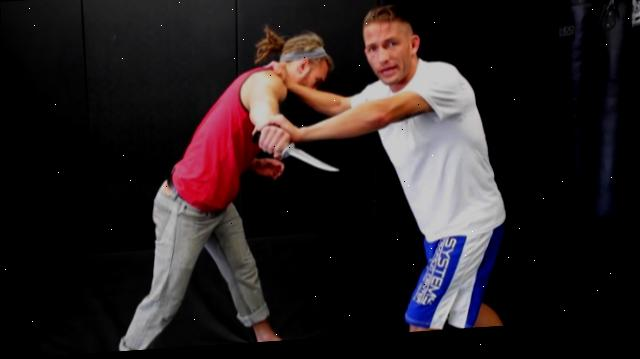long knife: (247, 127, 341, 185)
